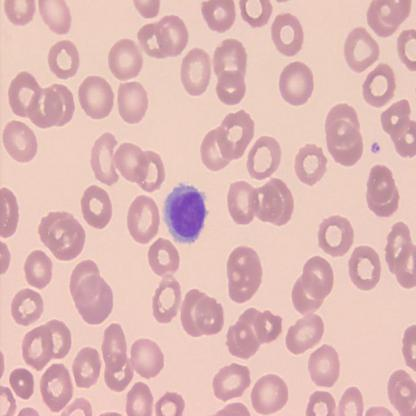Lymphocyte: (162, 182, 210, 245)
